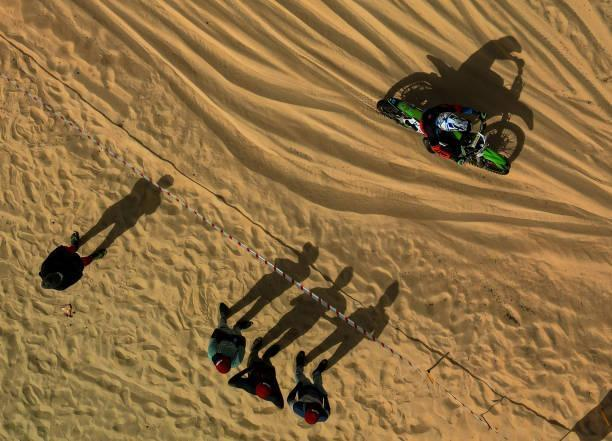Motorcycle: (374, 96, 508, 174)
